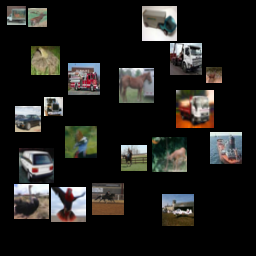airplane: (194, 169, 232, 207), (127, 213, 162, 248)
automobile: (192, 13, 214, 35)
bird: (182, 85, 214, 117), (161, 154, 187, 180), (50, 70, 76, 96)
cat: (86, 59, 105, 78)
deer: (122, 119, 151, 148), (9, 201, 35, 227), (130, 175, 152, 197), (47, 6, 69, 28), (197, 68, 213, 84)
dog: (149, 35, 184, 70), (70, 126, 102, 158), (5, 169, 27, 191)
frog: (113, 56, 142, 85)
ship: (56, 200, 78, 222)
